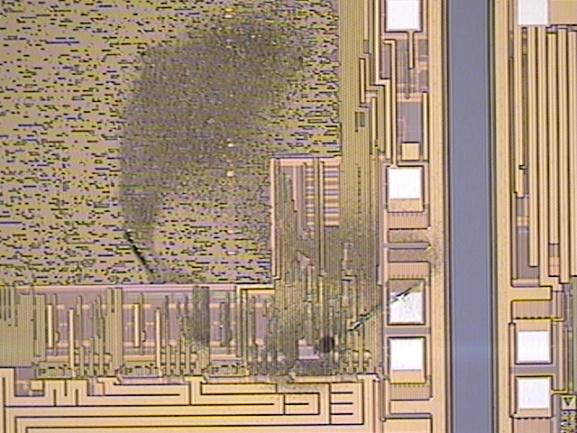PO CONTAMINATION: (107, 2, 452, 399)
